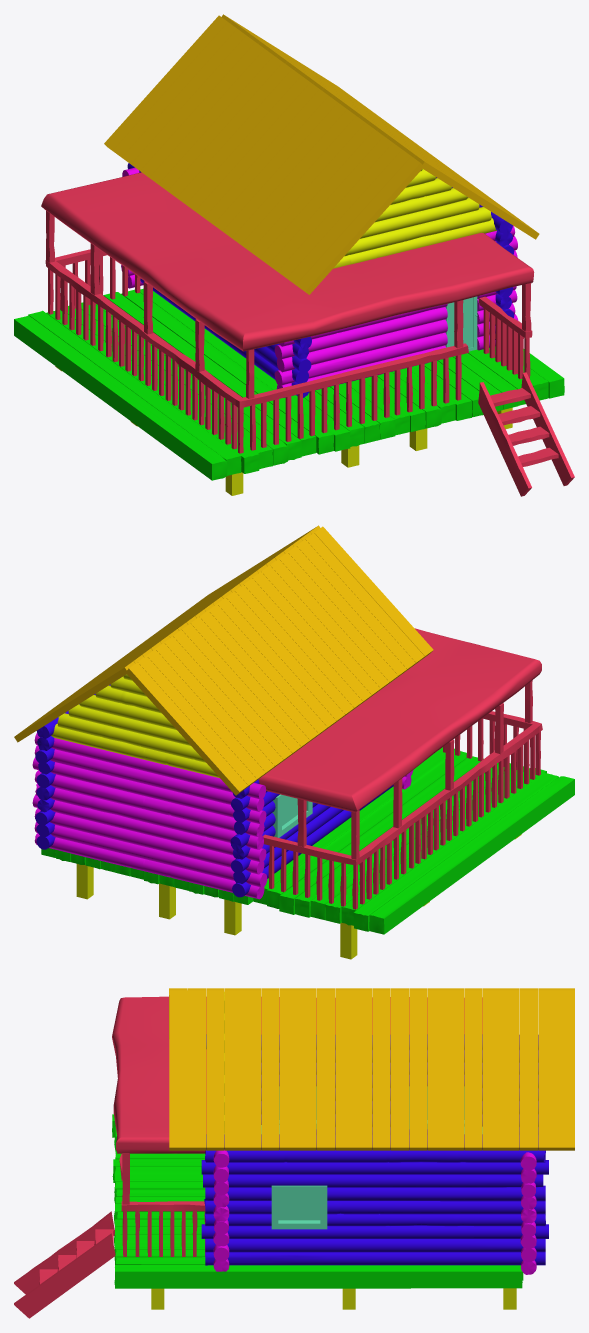
Rendered from houseModel.fbx.
3 renders of one model, top to bottom at view 1: azimuth 30°, elevation 25°; view 2: azimuth 150°, elevation 25°; view 3: azimuth 270°, elevation 25°, orthographic. The views are drawn at different scales.
Visible parts, largest first — view 1: Roof (×2), Floor102, Ring, Stairs, Floor106, pCube60, Floor98, Floor99, Type4, Type3, Type5, Floor101 (+49 smaller); view 2: Roof (×2), Floor102, Ring, Floor106, Type52, pCube39, Type58, Type55, Type56, Type53, Type57, Type54 (+43 smaller); view 3: Floor116, Roof, Stairs, Type35, Type36, Type38, Type39, Type40, Type34, Type37, Type32, Type33 (+39 smaller).
Part boxes in pixels (box(x1,y1,x2,y2)): Roof (×2): box(41, 149, 534, 351); Floor102: box(14, 315, 227, 480); Ring: box(45, 249, 468, 408); Stairs: box(478, 372, 574, 496); Floor106: box(28, 310, 241, 475); pCube60: box(296, 156, 423, 294); Floor98: box(121, 289, 333, 454); Floor99: box(103, 292, 316, 456); Type4: box(277, 303, 515, 372); Type3: box(274, 314, 518, 385); Type5: box(274, 290, 517, 359); Floor101: box(140, 288, 350, 451); Roof (×2): box(258, 533, 541, 812); Floor102: box(369, 776, 574, 934); Ring: box(263, 711, 542, 865); Floor106: box(353, 773, 558, 931); Type52: box(34, 770, 264, 837); pCube39: box(125, 662, 248, 795); Type58: box(34, 745, 264, 811); Type55: box(34, 808, 264, 874); Type56: box(34, 821, 267, 887); Type53: box(35, 783, 263, 849); Type57: box(32, 757, 266, 824); Type54: box(32, 795, 266, 862); Floor116: box(114, 1264, 522, 1288); Roof: box(112, 996, 482, 1153); Stairs: box(14, 1211, 115, 1318); Type35: box(205, 1239, 545, 1252); Type36: box(205, 1252, 545, 1265); Type38: box(203, 1174, 543, 1187); Type39: box(201, 1160, 548, 1174); Type40: box(205, 1150, 545, 1162); Type34: box(201, 1224, 548, 1238); Type37: box(205, 1185, 545, 1201); Type32: box(204, 1199, 545, 1214); Type33: box(205, 1213, 545, 1226).
Size of the model in its own units: 22.45 by 17.55 by 30.49.
